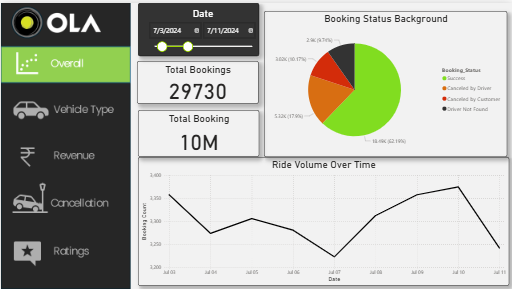

The dashboard page shown, as its layout file describes it:
{"tool":"powerbi","page":{"name":"Overall","canvas":[1280,720],"ordinal":0},"visuals":[{"type":"actionButton","box":[0,198.6,324.3,110],"z":0},{"type":"actionButton","box":[0,438.6,324.3,127.1],"z":1000},{"type":"actionButton","box":[0,328.6,324.3,110],"z":2000},{"type":"actionButton","box":[0,565.7,324.3,154.3],"z":3000},{"type":"lineChart","title":"Ride Volume Over Time","fields":{"Y":["CountNonNull(July.Booking_ID)"],"Category":["July.Date"]},"box":[323.8,398.4,928.6,322.2],"z":4000},{"type":"pieChart","title":"Booking Status Background","fields":{"Category":["July.Booking_Status"],"Y":["CountNonNull(July.Booking_Status)"]},"box":[657.1,19,607.9,365.1],"z":5000},{"type":"slicer","title":"Date","fields":{"Values":["July.Date"]},"box":[341.7,0,303.3,133.3],"z":6000},{"type":"card","title":"Total Bookings","fields":{"Values":["CountNonNull(July.Booking_ID)"]},"box":[341.2,144.6,303.6,107],"z":7000},{"type":"card","title":"Total Booking","fields":{"Values":["Sum(July.Booking_Value)"]},"box":[341.7,266.7,303.3,116.7],"z":8000}]}

Visuals, with their boxes in screenshot pixels (x1, y1, x2, y2), scaled from the page's 1280x720 canvas onto the 512x289 screenshot:
actionButton: rect(0, 80, 130, 124)
actionButton: rect(0, 176, 130, 227)
actionButton: rect(0, 132, 130, 176)
actionButton: rect(0, 227, 130, 288)
"Ride Volume Over Time" lineChart: rect(130, 160, 501, 288)
"Booking Status Background" pieChart: rect(263, 8, 506, 154)
"Date" slicer: rect(137, 0, 258, 54)
"Total Bookings" card: rect(136, 58, 258, 101)
"Total Booking" card: rect(137, 107, 258, 154)
